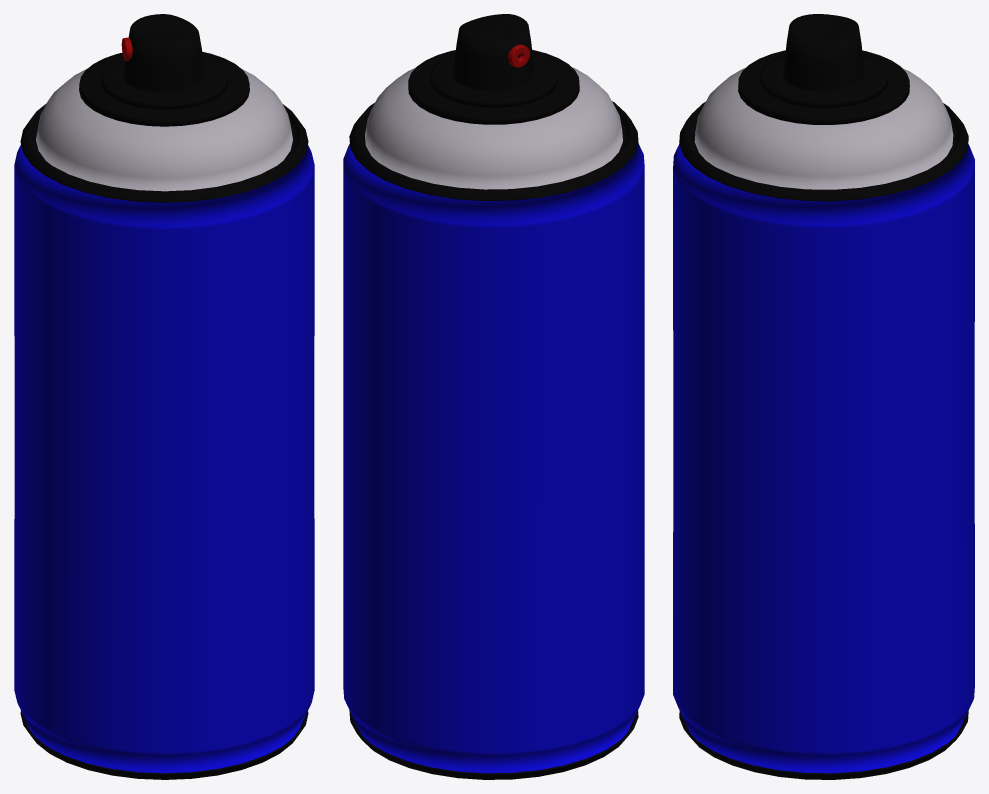
The model's file is Spray_Color_blend.obj.
The picture shows the model from 3 angles, left to right: view 1: azimuth 30°, elevation 25°; view 2: azimuth 150°, elevation 25°; view 3: azimuth 270°, elevation 25°; orthographic projection.
Visible parts, largest first — view 1: SprayPaint_Cylinder; view 2: SprayPaint_Cylinder; view 3: SprayPaint_Cylinder.
Boxes of the visible parts, x1,y1,x2,y2 form: SprayPaint_Cylinder: (14,14,314,779); SprayPaint_Cylinder: (343,14,644,779); SprayPaint_Cylinder: (673,14,974,779).
Bounding box in the file's own units: 0.908 × 2.32 × 0.9123.
